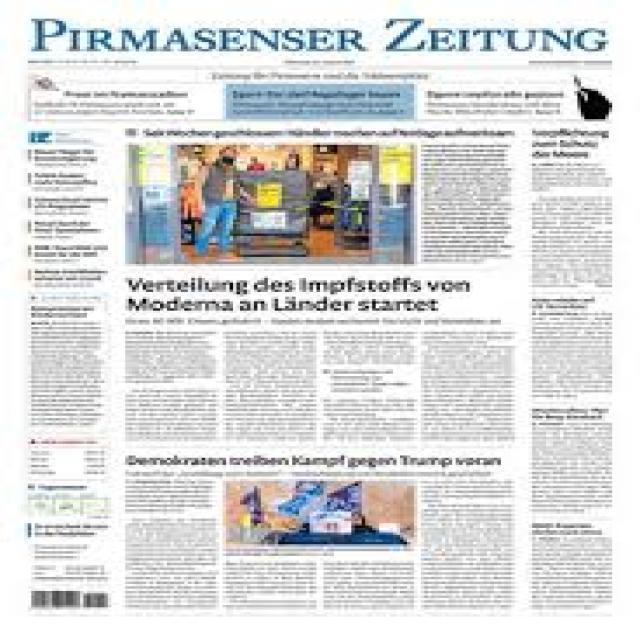Newspaper: (12, 13, 634, 636), (46, 18, 258, 640)
